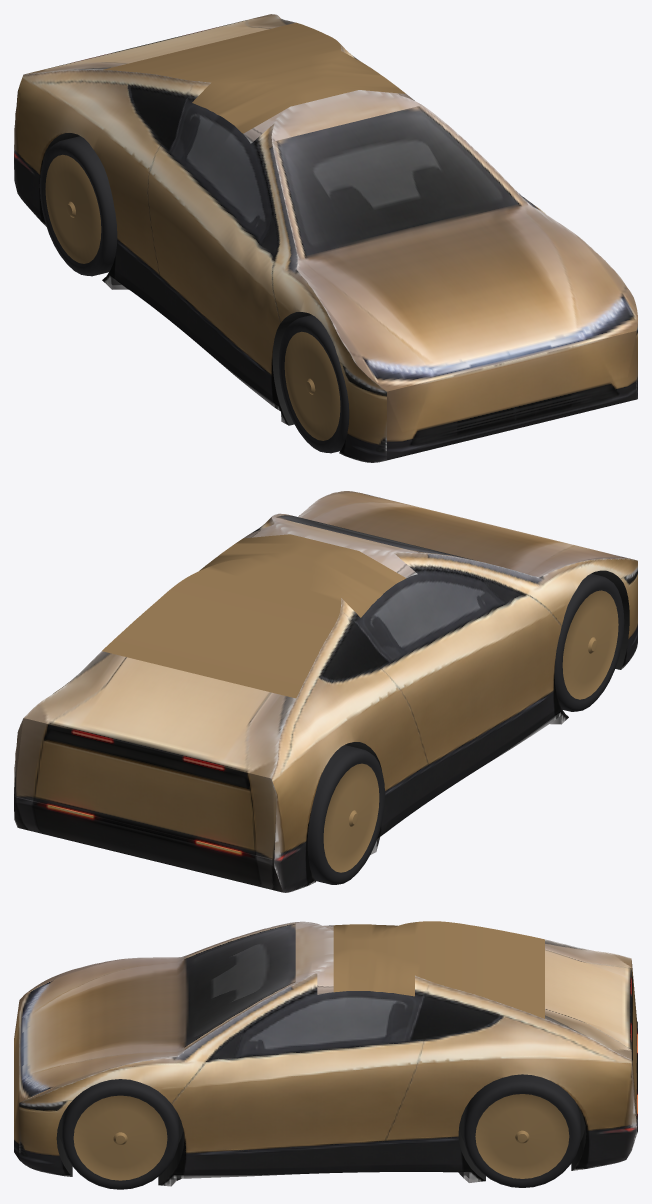
The model's file is Cybercab.fbx.
3 renders of one model, top to bottom at view 1: azimuth 30°, elevation 25°; view 2: azimuth 150°, elevation 25°; view 3: azimuth 270°, elevation 25°, orthographic. The views are drawn at different scales.
Parts seen in each view (by area): view 1: Body, Wheel_RL, Wheel_FL; view 2: Body, Wheel_RL, Wheel_FL; view 3: Body, Wheel_RR, Wheel_FR.
Part boxes in pixels (x1,y1,x2,y2): Body: (14, 14, 637, 462); Wheel_RL: (39, 136, 117, 276); Wheel_FL: (279, 315, 349, 453); Body: (14, 491, 637, 892); Wheel_RL: (307, 745, 385, 884); Wheel_FL: (554, 573, 624, 711); Body: (14, 921, 637, 1186); Wheel_RR: (463, 1074, 580, 1187); Wheel_FR: (62, 1079, 179, 1189).
Size of the model in its own units: 1.88 by 1.41 by 4.21.
Materials: 4 (1 with a texture image).
